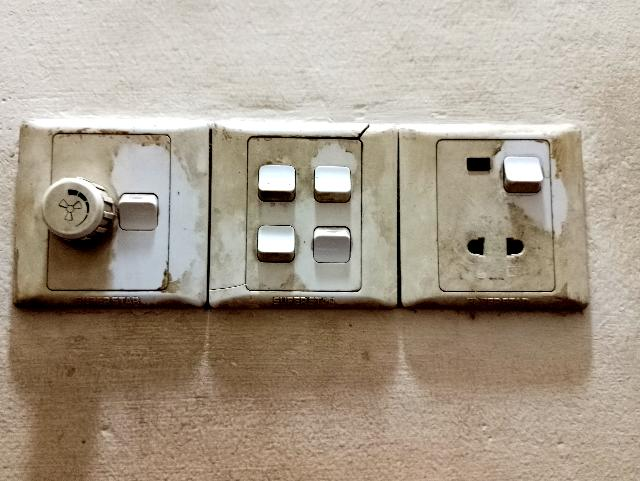hardplastic: (8, 103, 605, 335)
